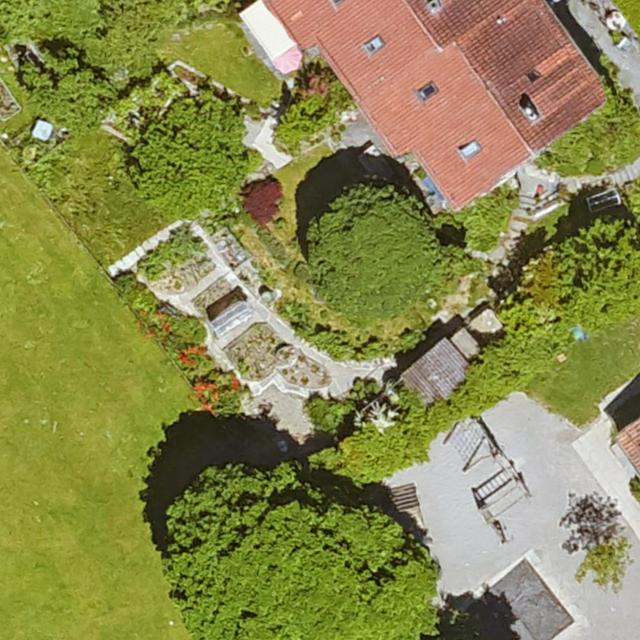tree: (156, 468, 440, 640), (311, 182, 447, 326), (130, 89, 248, 214), (559, 222, 640, 318), (588, 536, 632, 588), (280, 96, 328, 142)
